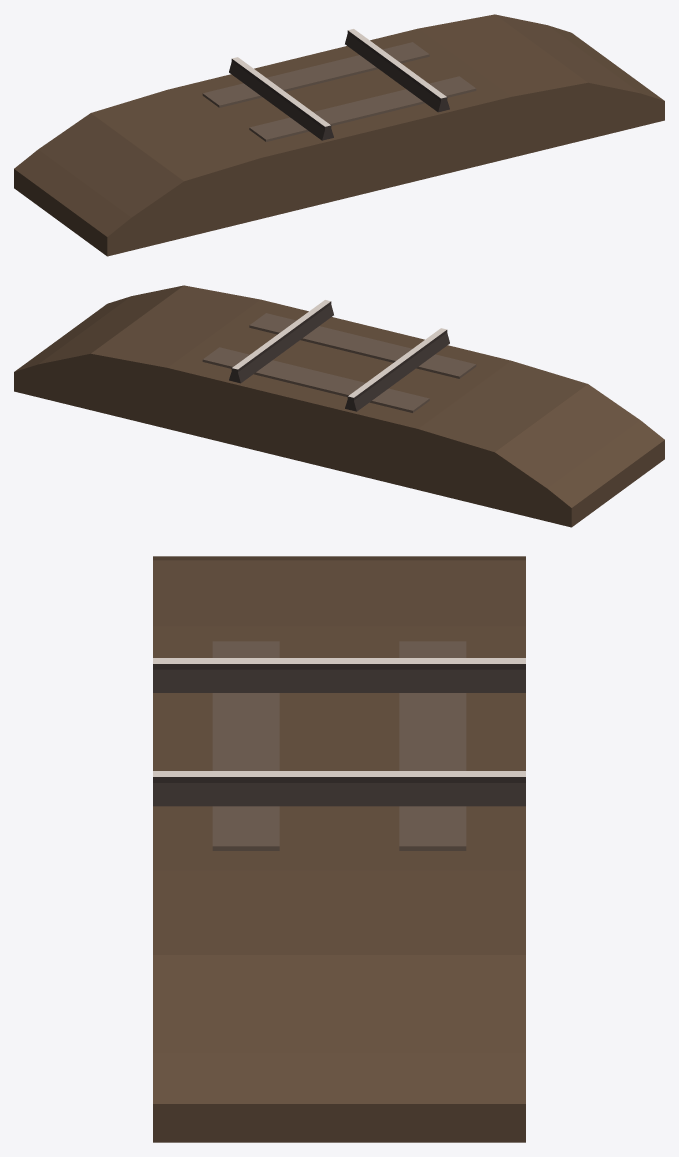
The model's file is track.fbx.
The picture shows the model from 3 angles, top to bottom: view 1: azimuth 30°, elevation 25°; view 2: azimuth 150°, elevation 25°; view 3: azimuth 270°, elevation 25°; orthographic projection. The views are drawn at different scales.
Visible parts, largest first — view 1: p401_track; view 2: p401_track; view 3: p401_track.
Part boxes in pixels (x1,y1,x2,y2): p401_track: (14, 14, 664, 256); p401_track: (14, 285, 664, 527); p401_track: (153, 556, 525, 1142).
Size of the model in its own units: 6.9 by 0.905 by 2.
